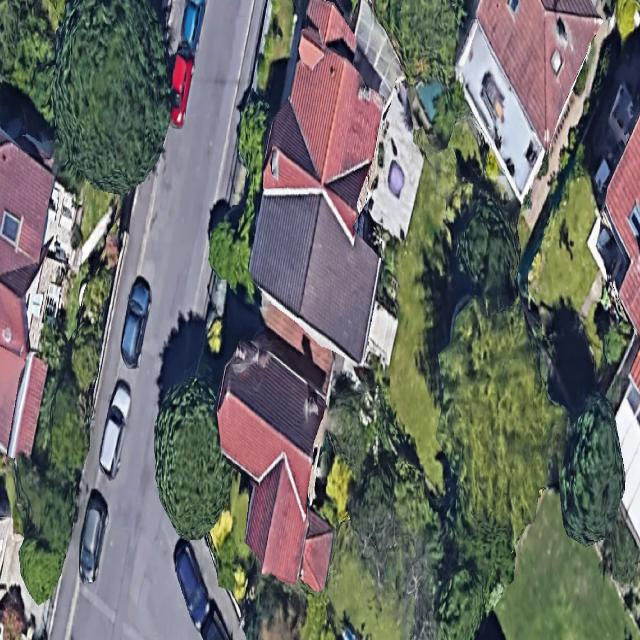maison: (233, 14, 419, 364), (414, 0, 607, 204), (208, 329, 340, 600), (0, 132, 78, 455), (605, 116, 639, 333)
